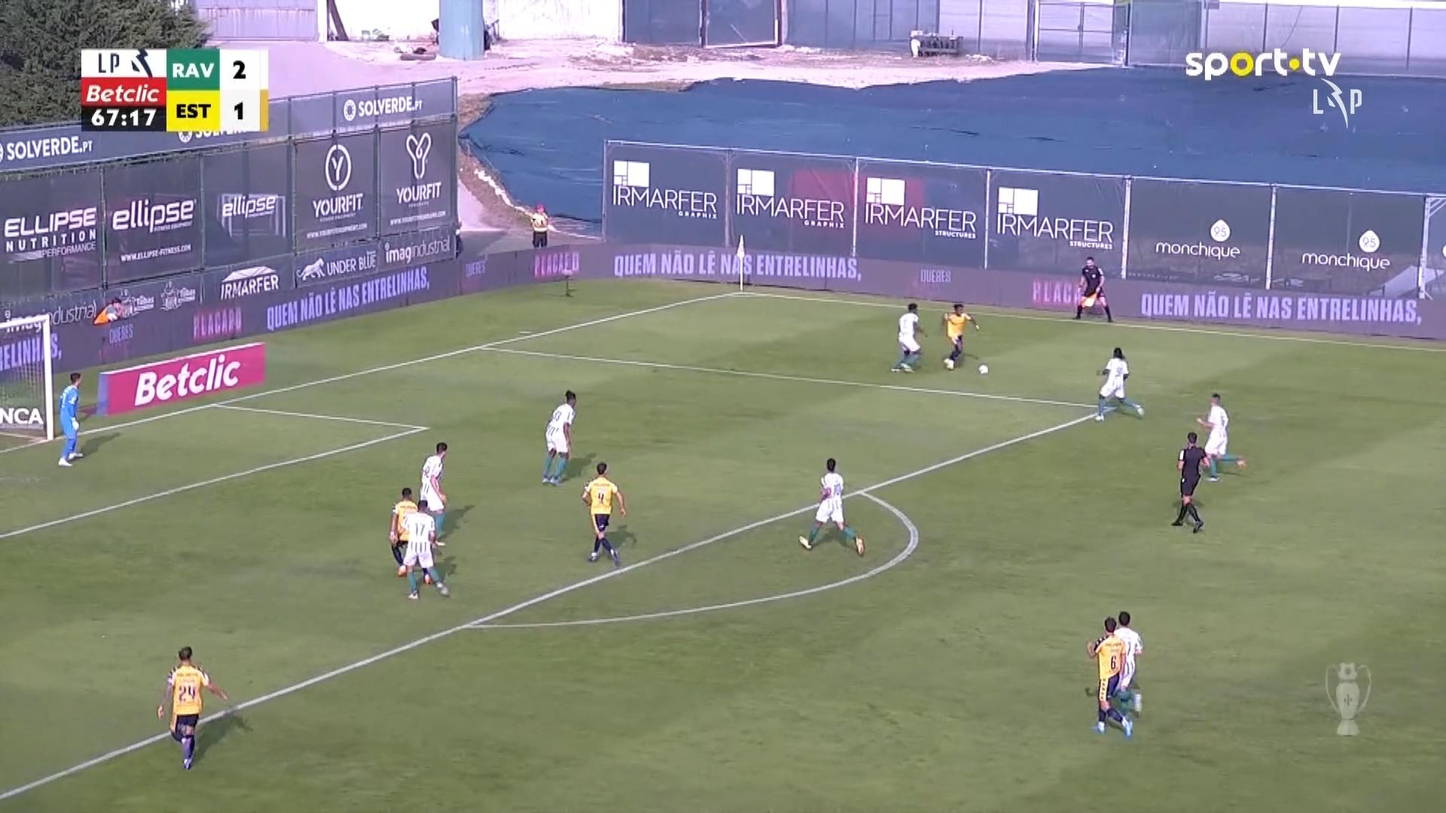ball: (978, 364, 988, 374)
goalkeeper: (57, 371, 86, 466)
player: (156, 644, 229, 769), (797, 457, 865, 556), (1086, 616, 1133, 738), (396, 498, 450, 600), (580, 461, 627, 568), (1094, 346, 1144, 421), (541, 389, 577, 486), (1112, 611, 1144, 717), (1194, 391, 1230, 481), (419, 441, 449, 547), (388, 487, 419, 577), (940, 301, 979, 370), (889, 301, 926, 373)
referee: (1170, 431, 1210, 532), (1073, 256, 1113, 322)
